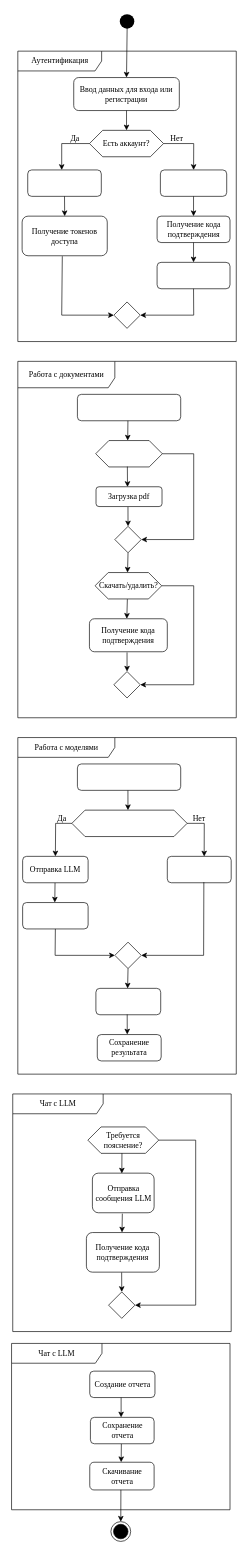
This 248x1553 diagram has some shape labels left out. Each missing label, with the centre of its shape:
"Ввод значений" goes at point 199,869.
"Выбор модели" goes at point 129,776.
"Загрузить новый?" goes at point 128,453.
"Запрос на вход" goes at point 64,182.
"Запрос на регистрацию" goes at point 193,182.
"Запуск расчета" goes at point 128,1001.
"Извлечь параметры из документа?" goes at point 129,823.
"Подтверждение кода" goes at point 193,275.
"Получение значений" goes at point 55,915.
"Просмотр списка документов" goes at point 129,407.
